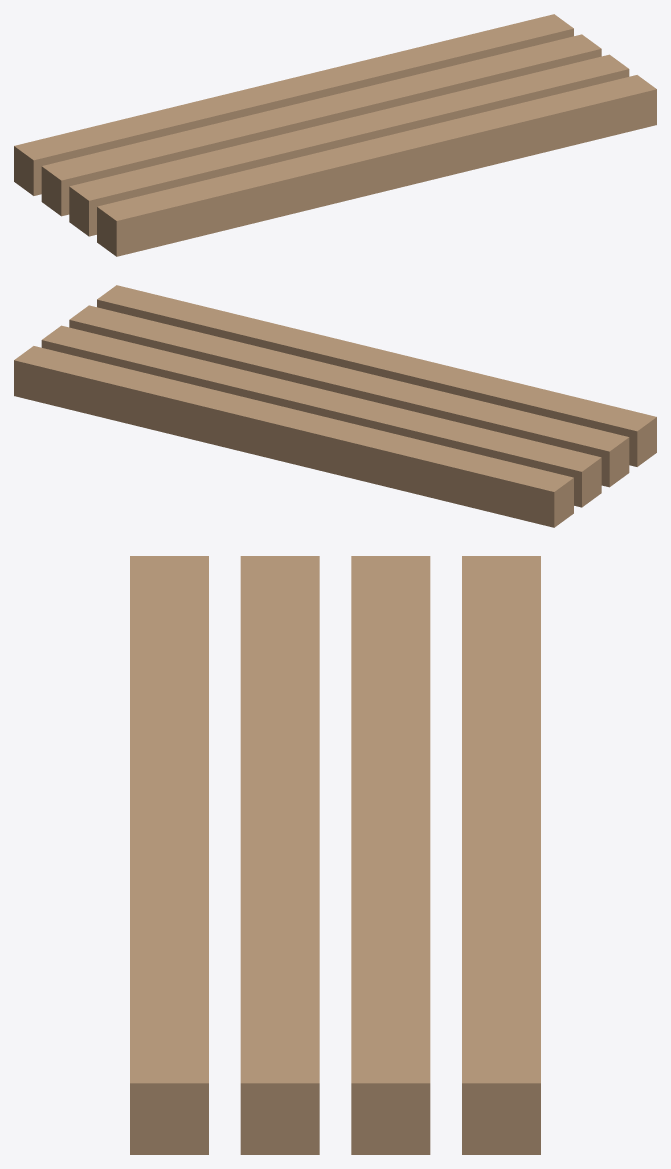
File: vox_beams.glb
The picture shows the model from 3 angles, top to bottom: view 1: azimuth 30°, elevation 25°; view 2: azimuth 150°, elevation 25°; view 3: azimuth 270°, elevation 25°; orthographic projection. The views are drawn at different scales.
Visible parts, largest first — view 1: Object_133, Object_139, Object_136, Object_142; view 2: Object_142, Object_136, Object_139, Object_133; view 3: Object_136, Object_139, Object_133, Object_142.
Part boxes in pixels (x1=…): Object_133: x1=97, y1=75, x2=656, y2=256; Object_139: x1=41, y1=34, x2=601, y2=216; Object_136: x1=69, y1=54, x2=629, y2=236; Object_142: x1=14, y1=14, x2=573, y2=195; Object_142: x1=14, y1=346, x2=573, y2=527; Object_136: x1=69, y1=305, x2=629, y2=487; Object_139: x1=41, y1=325, x2=601, y2=507; Object_133: x1=97, y1=285, x2=656, y2=466; Object_136: x1=240, y1=556, x2=319, y2=1154; Object_139: x1=351, y1=556, x2=430, y2=1154; Object_133: x1=130, y1=556, x2=208, y2=1154; Object_142: x1=462, y1=556, x2=540, y2=1154.
Bounding box in the file's own units: 9.48 × 0.6 × 3.12.
4 materials, 4 textured.
